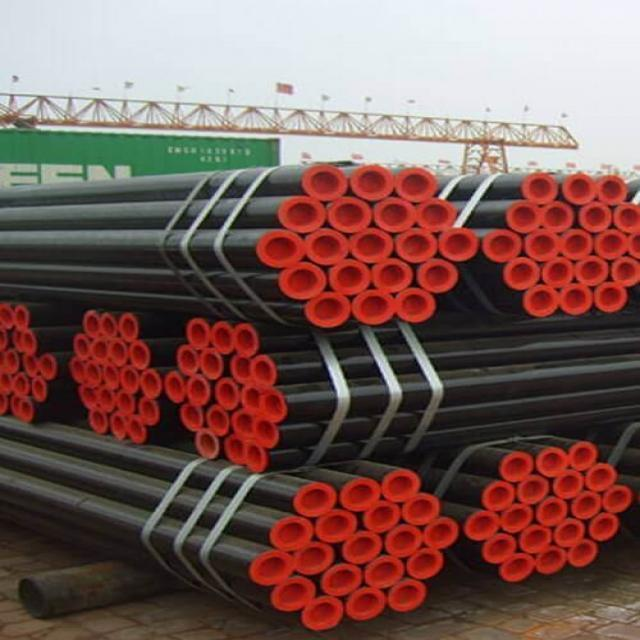pipe: (328, 201, 372, 230), (282, 198, 323, 229), (264, 232, 303, 264), (355, 167, 392, 198), (278, 579, 313, 610), (351, 232, 389, 260), (306, 169, 345, 196), (418, 200, 454, 229), (346, 534, 383, 562), (273, 520, 310, 548), (311, 296, 346, 325), (378, 202, 414, 230), (367, 558, 403, 586), (367, 502, 401, 531), (299, 485, 334, 513), (442, 231, 478, 258), (330, 263, 367, 289), (310, 235, 345, 262), (375, 263, 410, 290), (296, 545, 331, 572), (357, 294, 393, 320), (346, 481, 379, 509), (400, 172, 435, 198), (400, 233, 435, 259), (419, 262, 454, 288), (486, 232, 521, 258), (388, 584, 424, 609), (257, 554, 290, 581), (324, 567, 359, 592), (403, 291, 433, 320), (384, 473, 416, 500), (390, 527, 421, 554), (287, 267, 319, 293), (307, 600, 339, 626), (320, 513, 354, 537), (351, 590, 381, 617), (508, 204, 539, 230), (502, 555, 533, 581), (596, 231, 628, 256), (509, 261, 538, 287), (235, 325, 261, 354), (526, 176, 556, 201), (502, 505, 532, 530), (527, 290, 558, 314), (260, 395, 287, 422), (527, 232, 556, 257), (522, 527, 551, 552), (467, 512, 497, 536), (405, 497, 436, 520), (250, 418, 276, 445), (542, 204, 570, 229), (602, 179, 630, 204), (413, 551, 441, 576), (502, 454, 531, 478), (564, 286, 590, 312), (486, 483, 513, 508), (216, 380, 240, 408), (564, 178, 593, 201), (580, 207, 610, 228), (210, 324, 235, 349), (579, 259, 606, 282), (564, 234, 591, 257), (539, 451, 566, 474), (178, 346, 200, 374), (429, 522, 457, 544), (485, 537, 514, 558), (201, 351, 224, 377), (188, 375, 207, 406), (587, 465, 613, 487), (538, 501, 564, 523), (572, 542, 598, 564), (166, 373, 185, 403), (548, 262, 574, 283), (209, 408, 229, 435), (600, 286, 623, 309), (187, 321, 209, 345), (233, 411, 254, 436), (604, 488, 629, 509), (243, 386, 263, 412), (521, 481, 547, 501), (543, 549, 565, 572), (616, 207, 640, 228), (231, 357, 253, 379), (557, 473, 580, 494), (198, 433, 218, 457), (558, 523, 582, 543), (245, 442, 263, 468), (575, 495, 599, 514), (143, 372, 161, 397), (619, 261, 640, 282), (596, 516, 617, 537), (255, 360, 275, 382), (573, 445, 593, 467), (183, 407, 201, 430), (120, 315, 137, 339), (109, 414, 126, 437), (90, 409, 107, 432), (132, 343, 147, 369), (111, 341, 127, 365), (127, 418, 145, 439), (92, 339, 110, 360), (228, 438, 245, 460), (84, 313, 101, 335), (141, 399, 157, 422), (105, 365, 120, 389), (123, 367, 137, 391), (74, 336, 90, 357), (41, 355, 56, 377), (118, 393, 134, 413), (21, 332, 36, 353), (5, 350, 18, 374), (72, 358, 86, 380), (87, 362, 99, 386), (33, 376, 46, 398), (101, 316, 116, 335), (81, 388, 95, 408), (13, 376, 28, 394), (25, 355, 38, 374), (16, 309, 29, 327), (102, 389, 113, 410), (21, 400, 33, 419), (13, 329, 23, 351), (11, 397, 23, 415), (1, 307, 12, 326), (0, 373, 10, 390)
